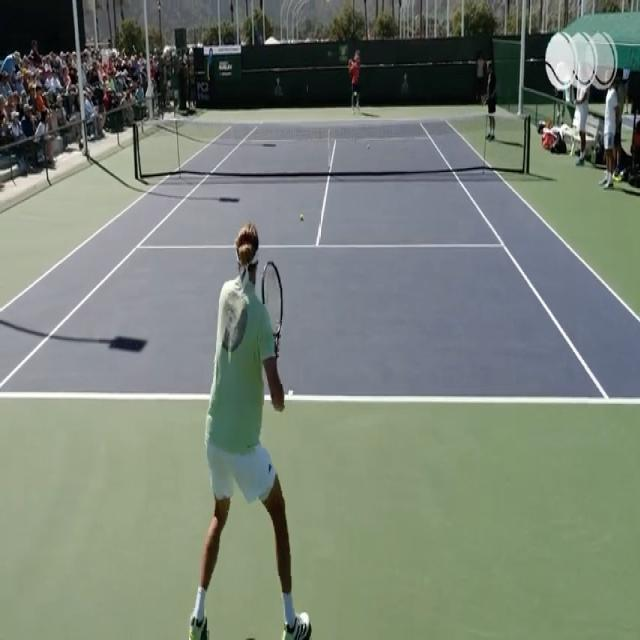ready-position: (189, 225, 309, 638)
